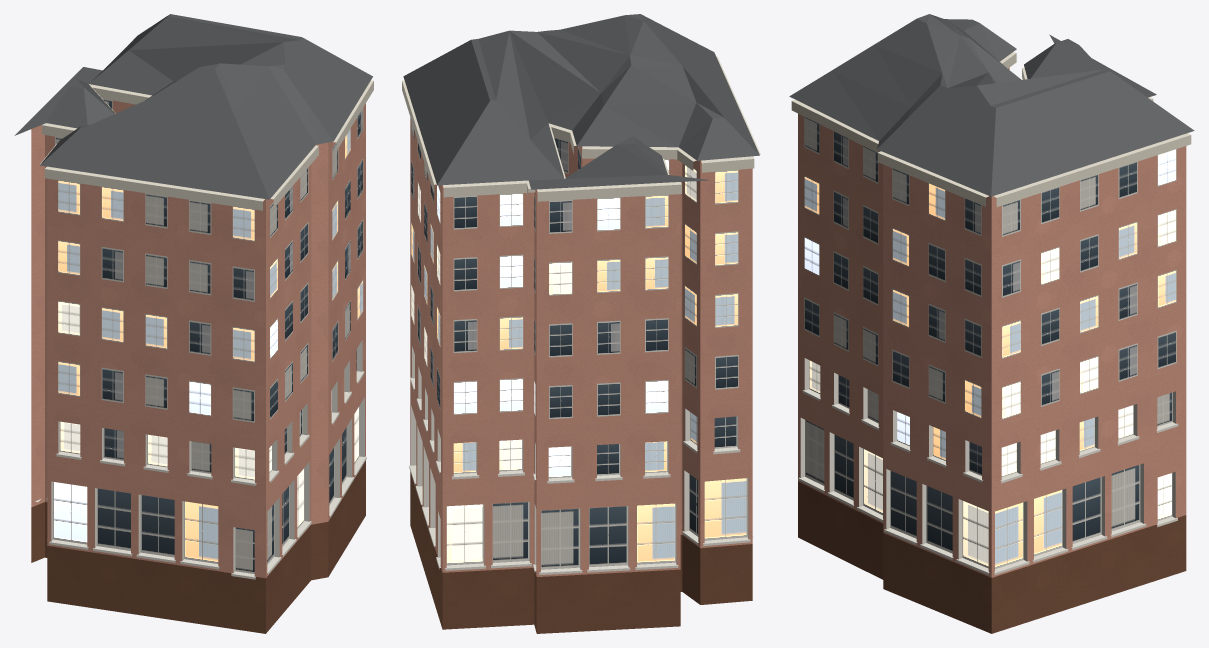
File: z4_ida15.glb
3 views of the same model, side by side, from view 1: azimuth 30°, elevation 25°; view 2: azimuth 150°, elevation 25°; view 3: azimuth 270°, elevation 25° (orthographic). The views are drawn at different scales.
Parts seen in each view (by area): view 1: z4_ida15; view 2: z4_ida15; view 3: z4_ida15.
Boxes of the visible parts, <box> form: z4_ida15: <box>14,14,373,633</box>; z4_ida15: <box>402,14,760,633</box>; z4_ida15: <box>789,14,1194,633</box>.
Bounding box in the file's own units: 19.26 × 28 × 19.69.
Materials: 3 (3 with a texture image).
